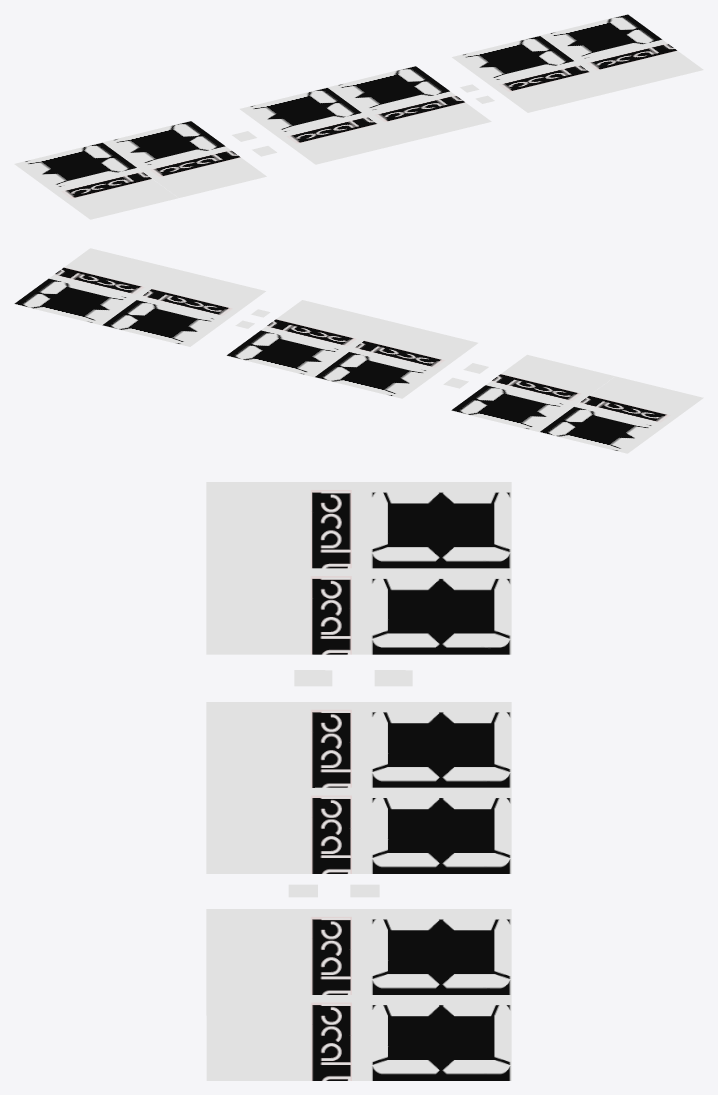
Rendered from Clock Mesh B.fbx.
3 renders of one model, top to bottom at view 1: azimuth 30°, elevation 25°; view 2: azimuth 150°, elevation 25°; view 3: azimuth 270°, elevation 25°, orthographic. The views are drawn at different scales.
Parts seen in each view (by area): view 1: clock; view 2: clock; view 3: clock.
Part boxes in pixels (box(x1,y1,x2,y2)): clock: box(14, 14, 703, 219); clock: box(14, 248, 703, 453); clock: box(206, 482, 511, 1080).
Bounding box in the file's own units: 268 × 0.0202 × 57.79.
